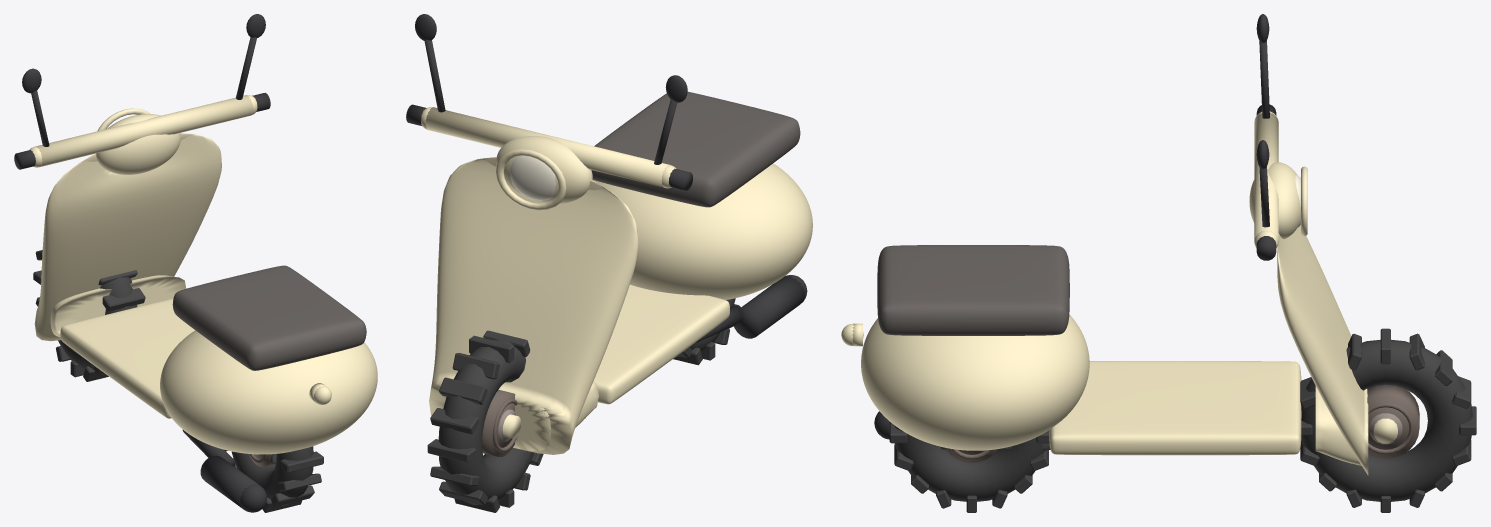
The model's file is 40-scooter.glb.
3 views of the same model, side by side, from view 1: azimuth 30°, elevation 25°; view 2: azimuth 150°, elevation 25°; view 3: azimuth 270°, elevation 25° (orthographic). The views are drawn at different scales.
Visible parts, largest first — view 1: legshield, rear_cowl, seat, floorboard, headset_bar, bridge, headlamp_nacelle, rear_tire, exhaust_muffler, front_tire, Sphere.003, front_tread.013 (+4 smaller); view 2: legshield, rear_cowl, seat, floorboard, front_tire, headset_bar, headlamp_nacelle, exhaust_muffler, bridge, headlamp_lens, headlamp_bezel, front_hub (+12 smaller); view 3: rear_cowl, floorboard, seat, front_tire, legshield, rear_tire, front_hub, headset_bar, headlamp_nacelle, bridge.
Boxes of the visible parts, x1,y1,x2,y2 form: legshield: (34,132,221,341); rear_cowl: (160,330,377,454); seat: (172,265,366,370); floorboard: (60,298,194,418); headset_bar: (35,95,253,166); bridge: (50,275,186,337); headlamp_nacelle: (96,114,180,174); rear_tire: (231,446,313,505); exhaust_muffler: (200,455,260,509); front_tire: (58,277,137,374); Sphere.003: (240,484,267,512); front_tread.013: (102,288,145,311); legshield: (429,157,638,454); rear_cowl: (592,163,812,299); seat: (591,91,800,207); floorboard: (593,285,729,404); front_tire: (438,339,533,504); headset_bar: (425,107,669,187); headlamp_nacelle: (496,136,592,203); exhaust_muffler: (734,276,804,338); bridge: (513,381,598,450); headlamp_lens: (510,155,555,200); headlamp_bezel: (496,149,566,210); front_hub: (482,389,515,457); rear_cowl: (861,314,1089,450); floorboard: (1049,361,1301,455); seat: (877,245,1069,335); front_tire: (1301,339,1472,501); legshield: (1277,225,1368,475); rear_tire: (894,425,1045,501); front_hub: (1367,385,1419,458); headset_bar: (1254,112,1278,244); headlamp_nacelle: (1249,162,1300,239); bridge: (1315,386,1361,465).
Bounding box in the file's own units: 0.94 × 1.34 × 1.81.
